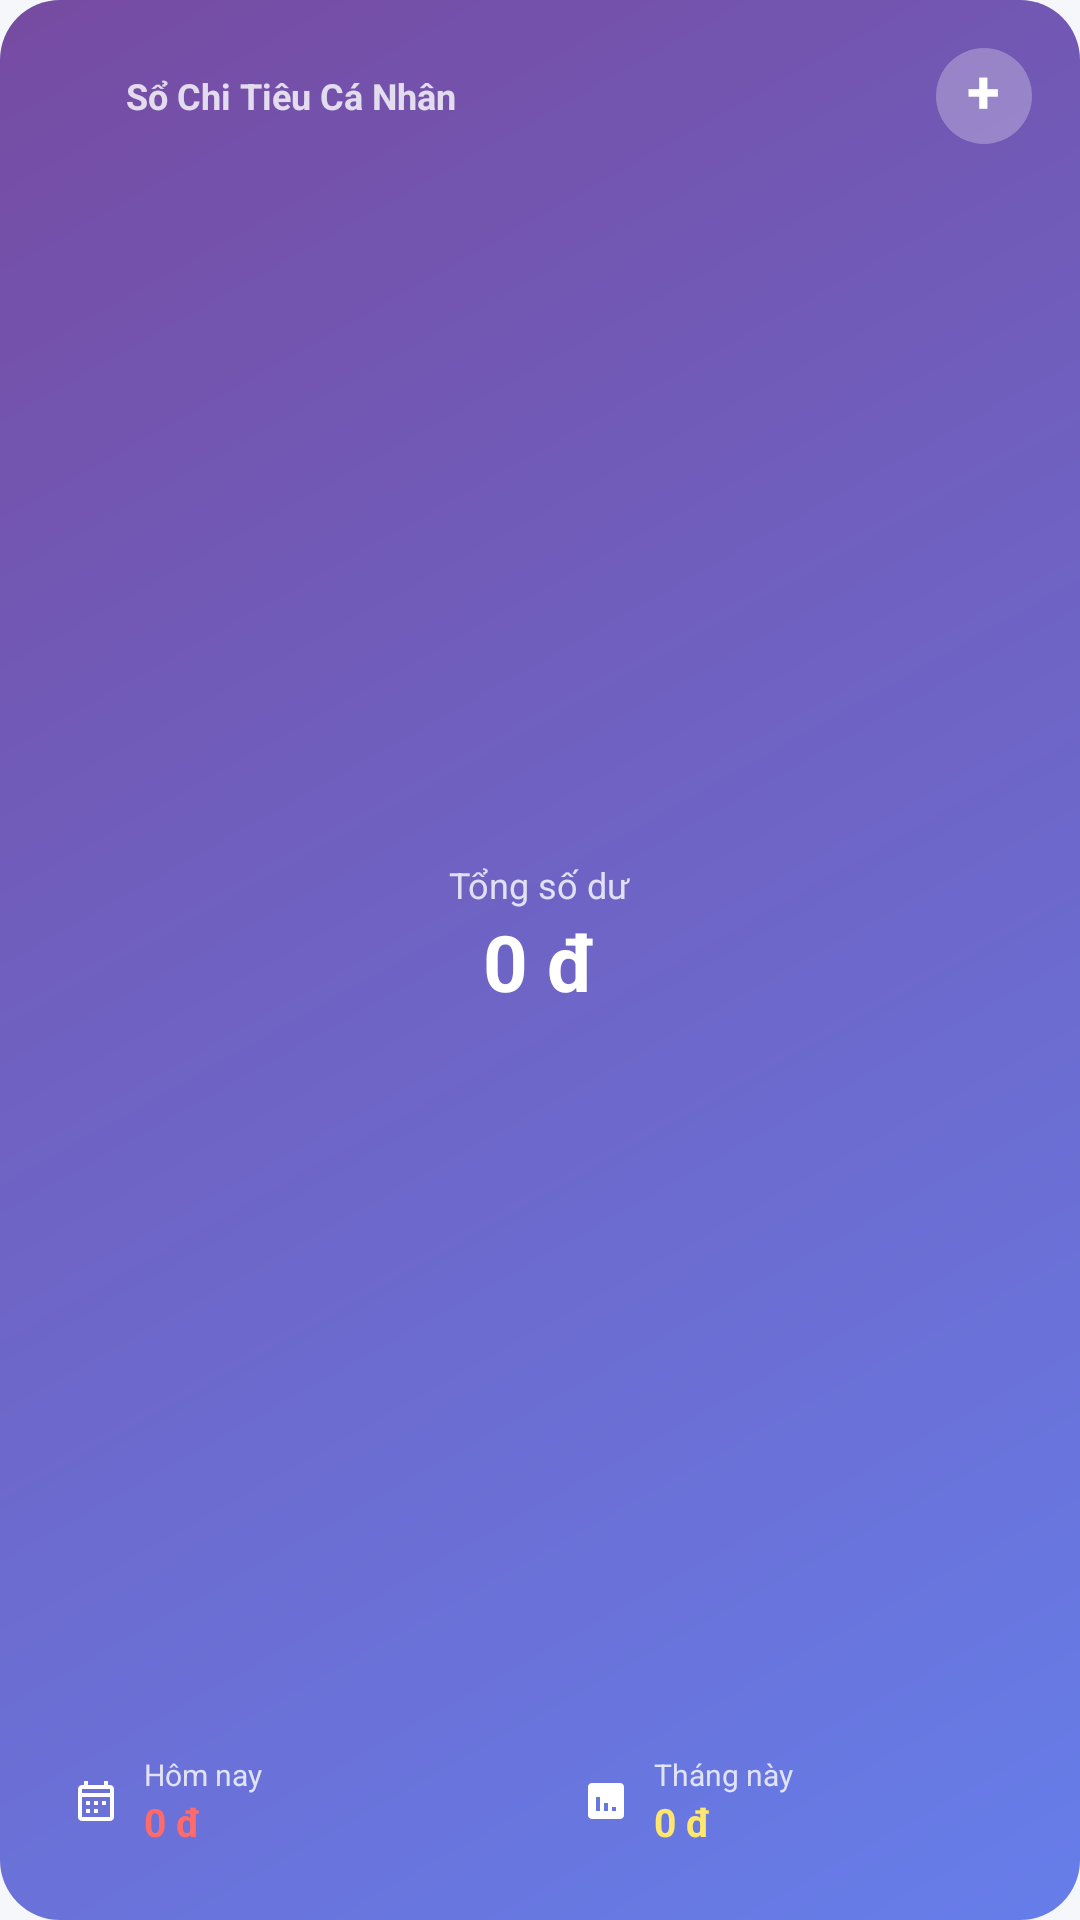

Where to tap for icons on this 1080px×1920px app screen, as (x,y):
widget calendar: (96,1801)
widget chart: (606,1801)
